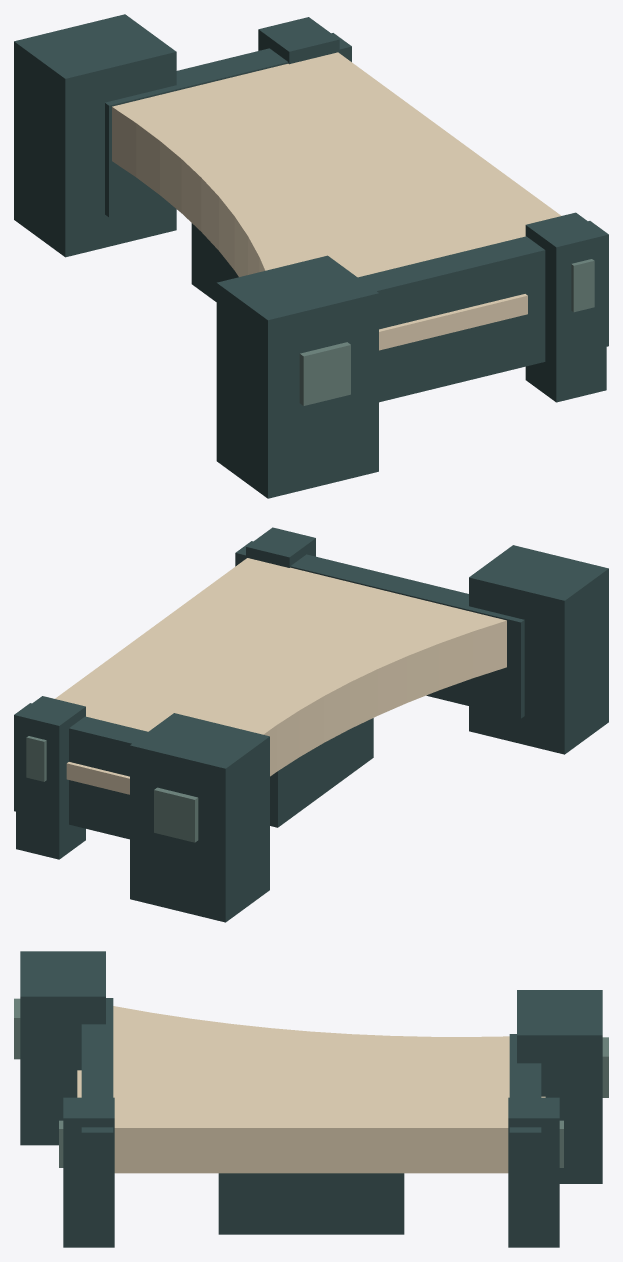
The model's file is Pier_Angled_10_lab2.glb.
3 renders of one model, top to bottom at view 1: azimuth 30°, elevation 25°; view 2: azimuth 150°, elevation 25°; view 3: azimuth 270°, elevation 25°, orthographic. The views are drawn at different scales.
Parts seen in each view (by area): view 1: Pier_Angled_10; view 2: Pier_Angled_10; view 3: Pier_Angled_10.
Part boxes in pixels (x1,y1,x2,y2): Pier_Angled_10: [14, 14, 608, 498]; Pier_Angled_10: [14, 527, 608, 922]; Pier_Angled_10: [14, 951, 608, 1247].
Bounding box in the file's own units: 2.55 × 1.15 × 4.17.
